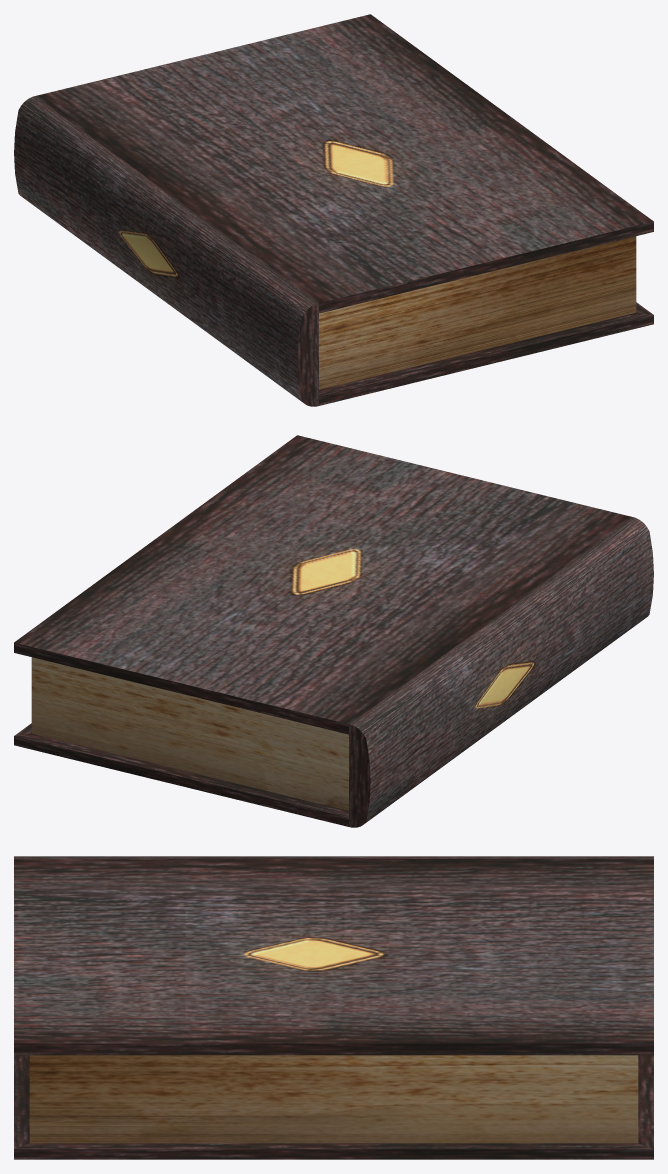
Rendered from book-05.fbx.
The picture shows the model from 3 angles, top to bottom: view 1: azimuth 30°, elevation 25°; view 2: azimuth 150°, elevation 25°; view 3: azimuth 270°, elevation 25°; orthographic projection. The views are drawn at different scales.
Visible parts, largest first — view 1: Cube.004; view 2: Cube.004; view 3: Cube.004.
Part boxes in pixels (x1=…): Cube.004: x1=14, y1=14, x2=653, y2=406; Cube.004: x1=14, y1=435, x2=653, y2=827; Cube.004: x1=14, y1=856, x2=653, y2=1159.
Size of the model in its own units: 0.3053 by 0.084 by 0.42.
